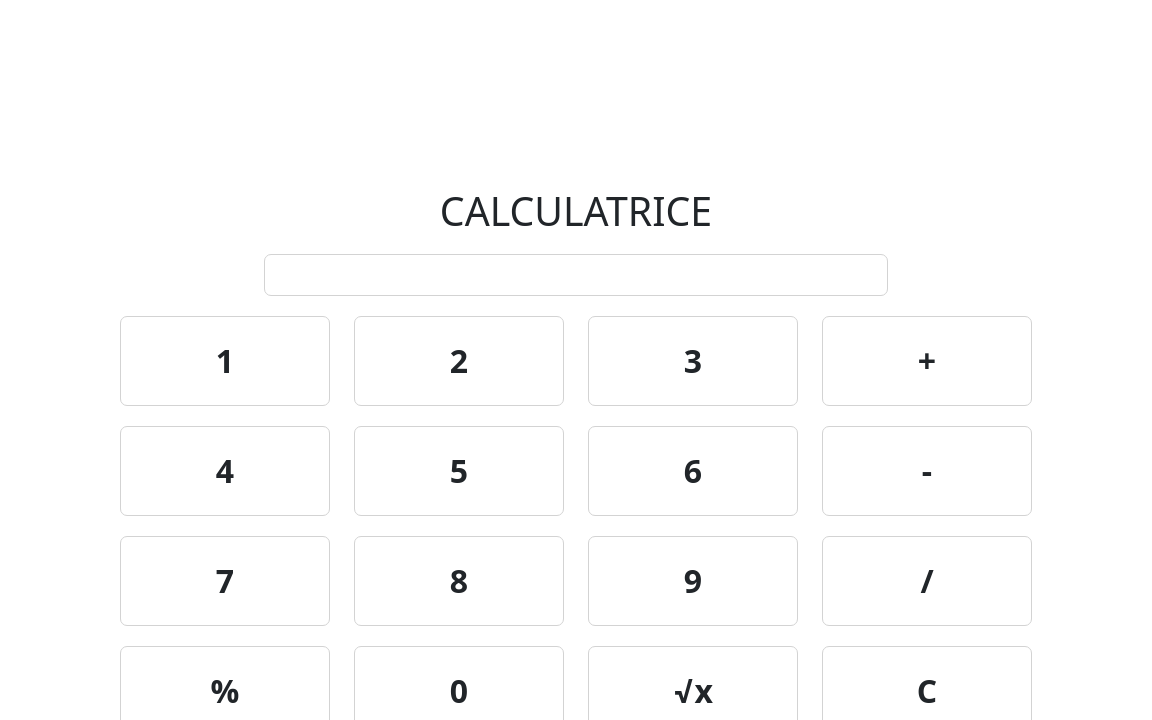
Test case: test division fonctional
The image size is (1152, 720).
(page scrolled)
Click the text with class "touch" showing "1": (225, 361) [120,316,330,406]
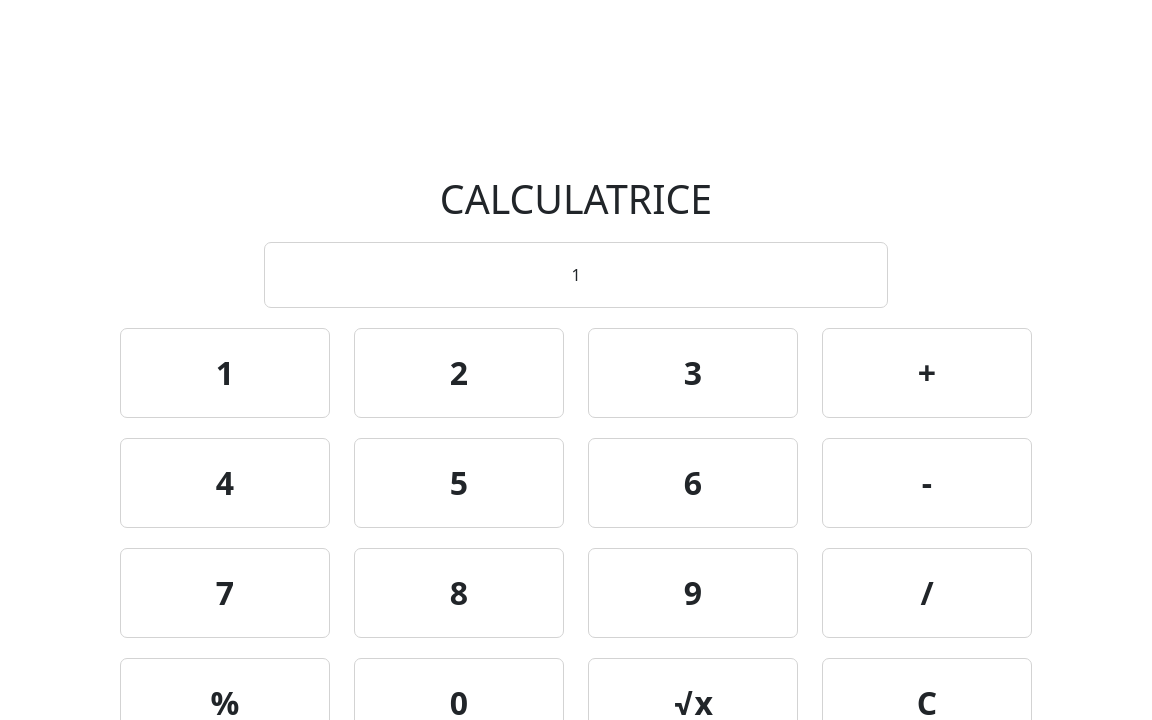
Click the text with class "touch" showing "2": (459, 373) [354,328,564,418]
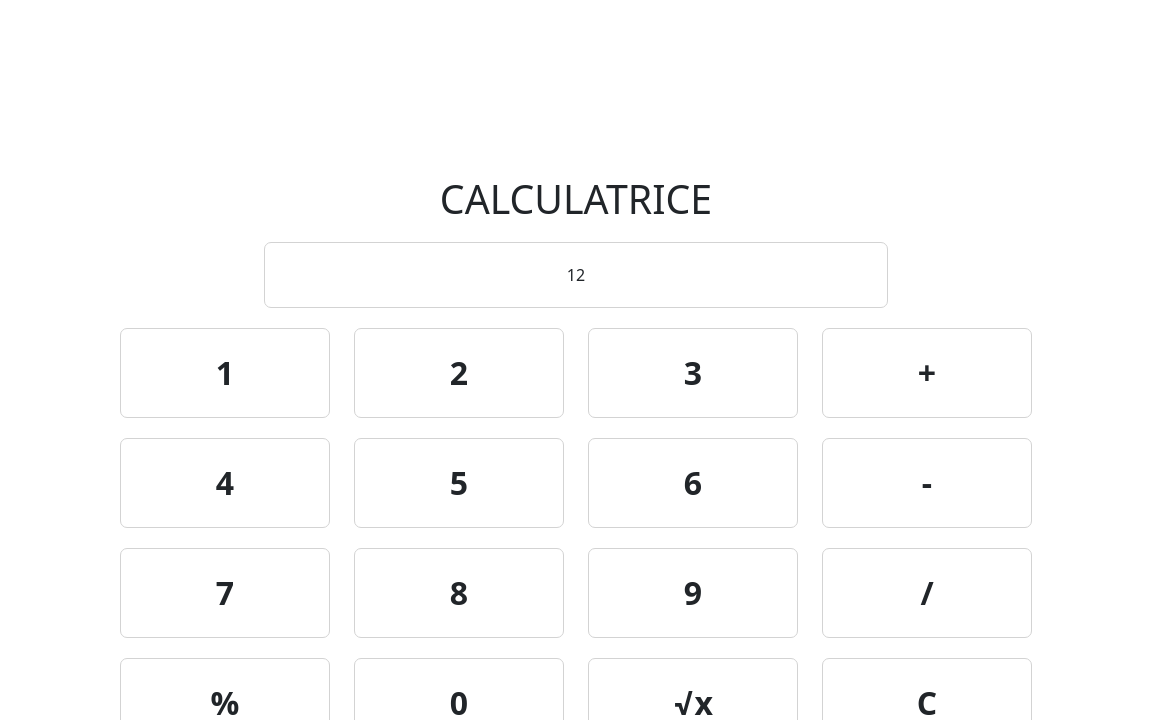
Click the text with class "touch" showing "/": (927, 593) [822,548,1032,638]
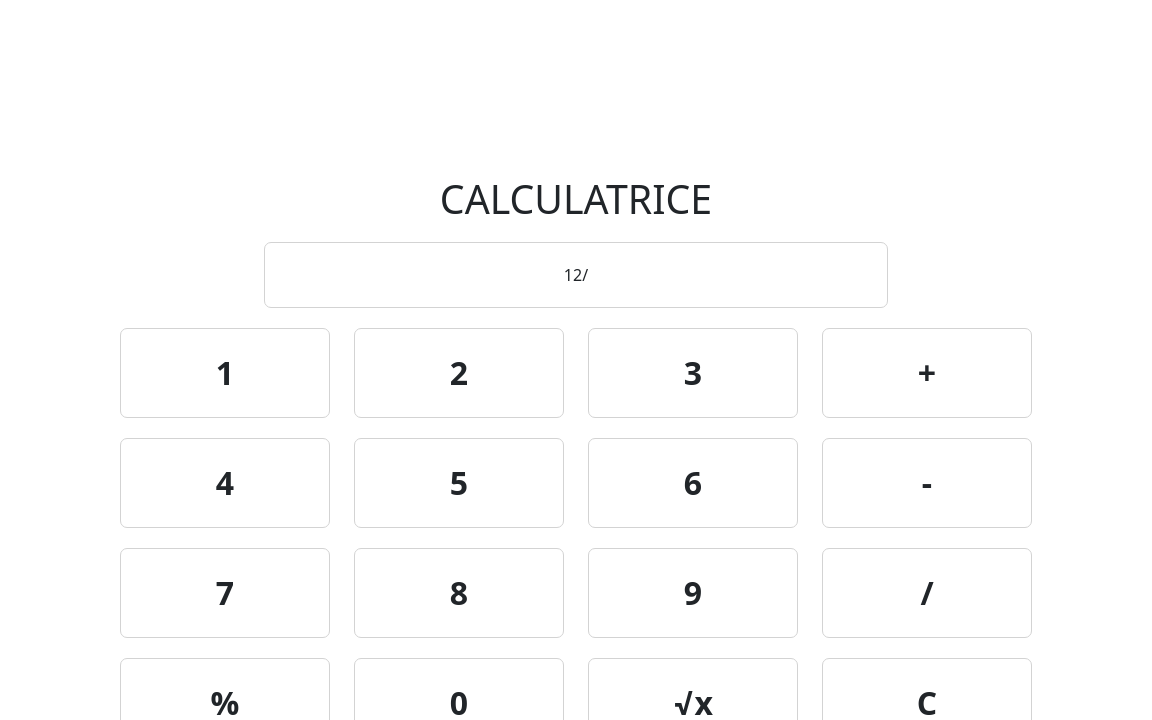
Click the text with class "touch" showing "1": (225, 373) [120,328,330,418]
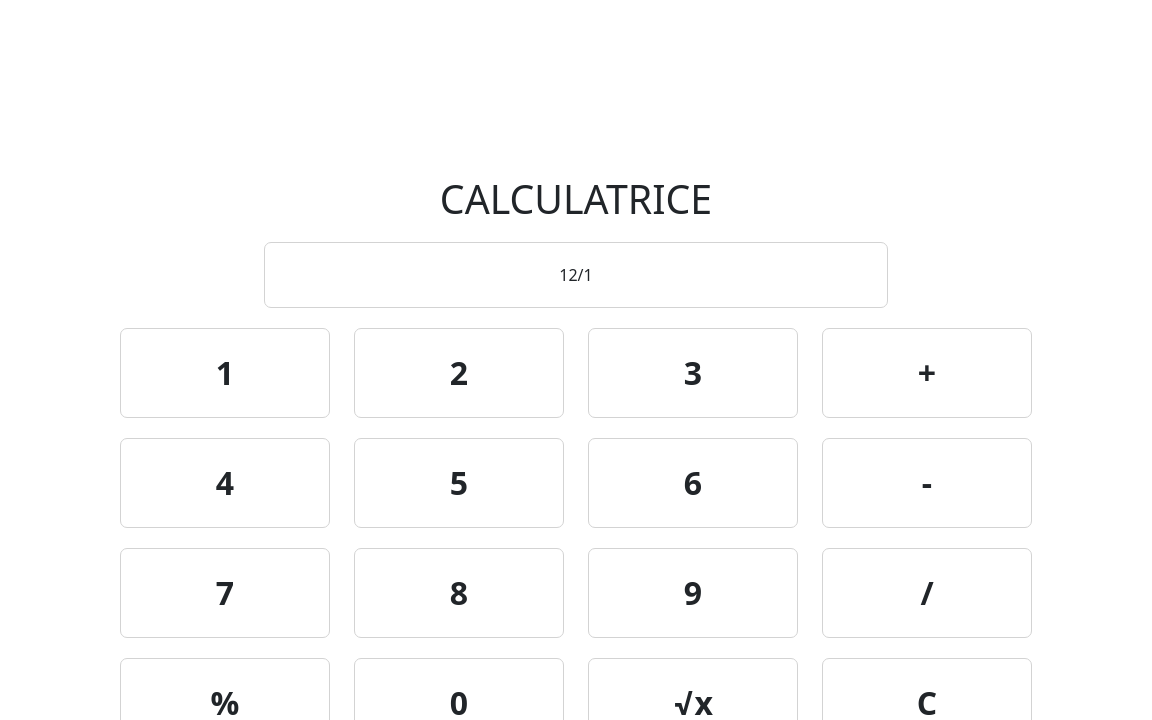
Click the text with class "touch" showing "2": (459, 373) [354,328,564,418]
(page scrolled)
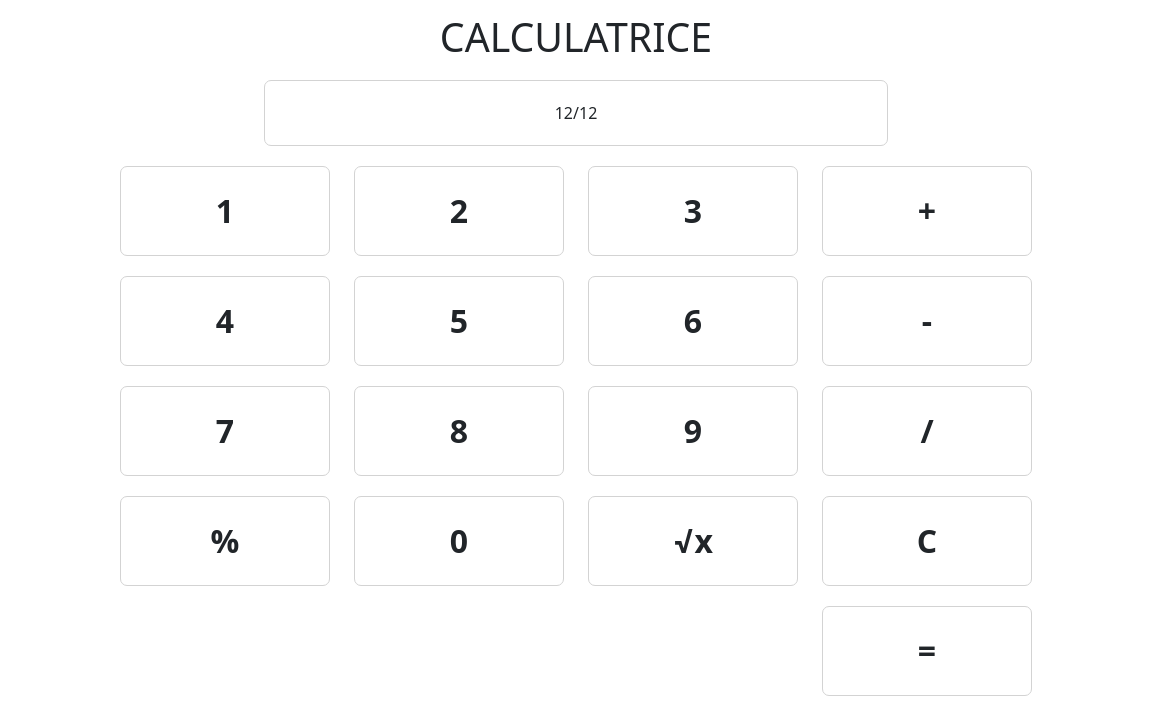
Click the text with class "touch" showing "=": (927, 651) [822,606,1032,696]
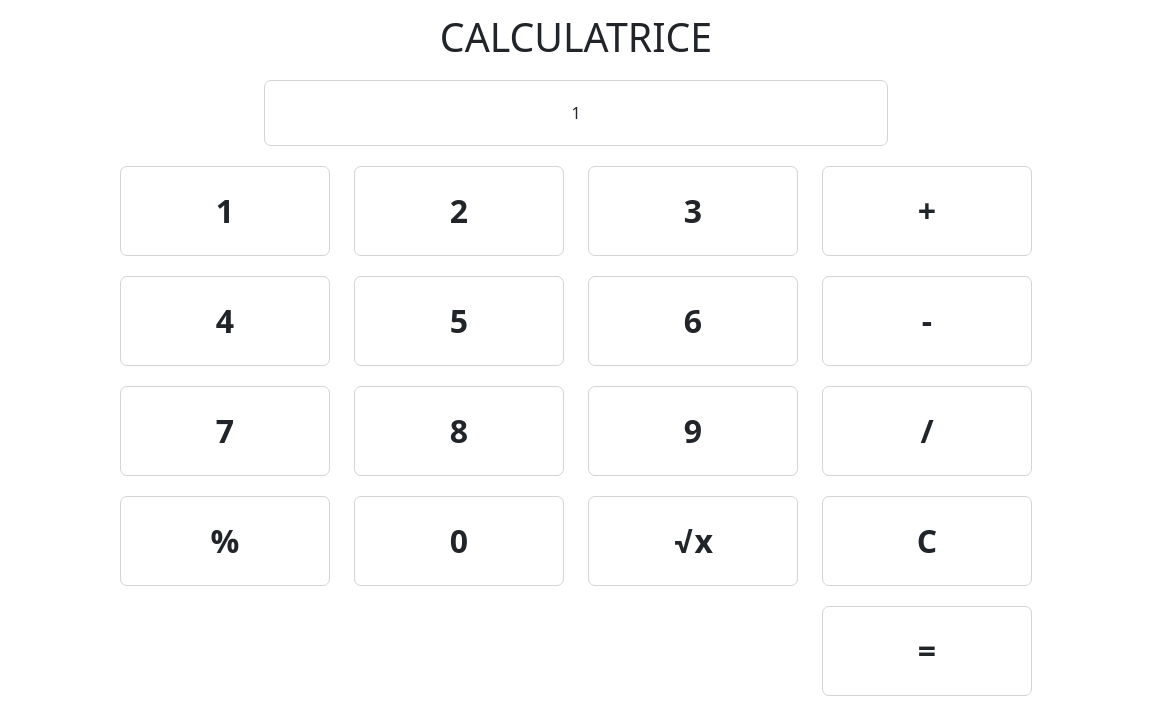
Check: the text with class "result" reads "1", box [571,102,581,124]
